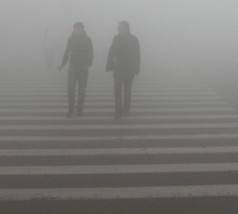person: (57, 20, 96, 117), (105, 20, 142, 117)
